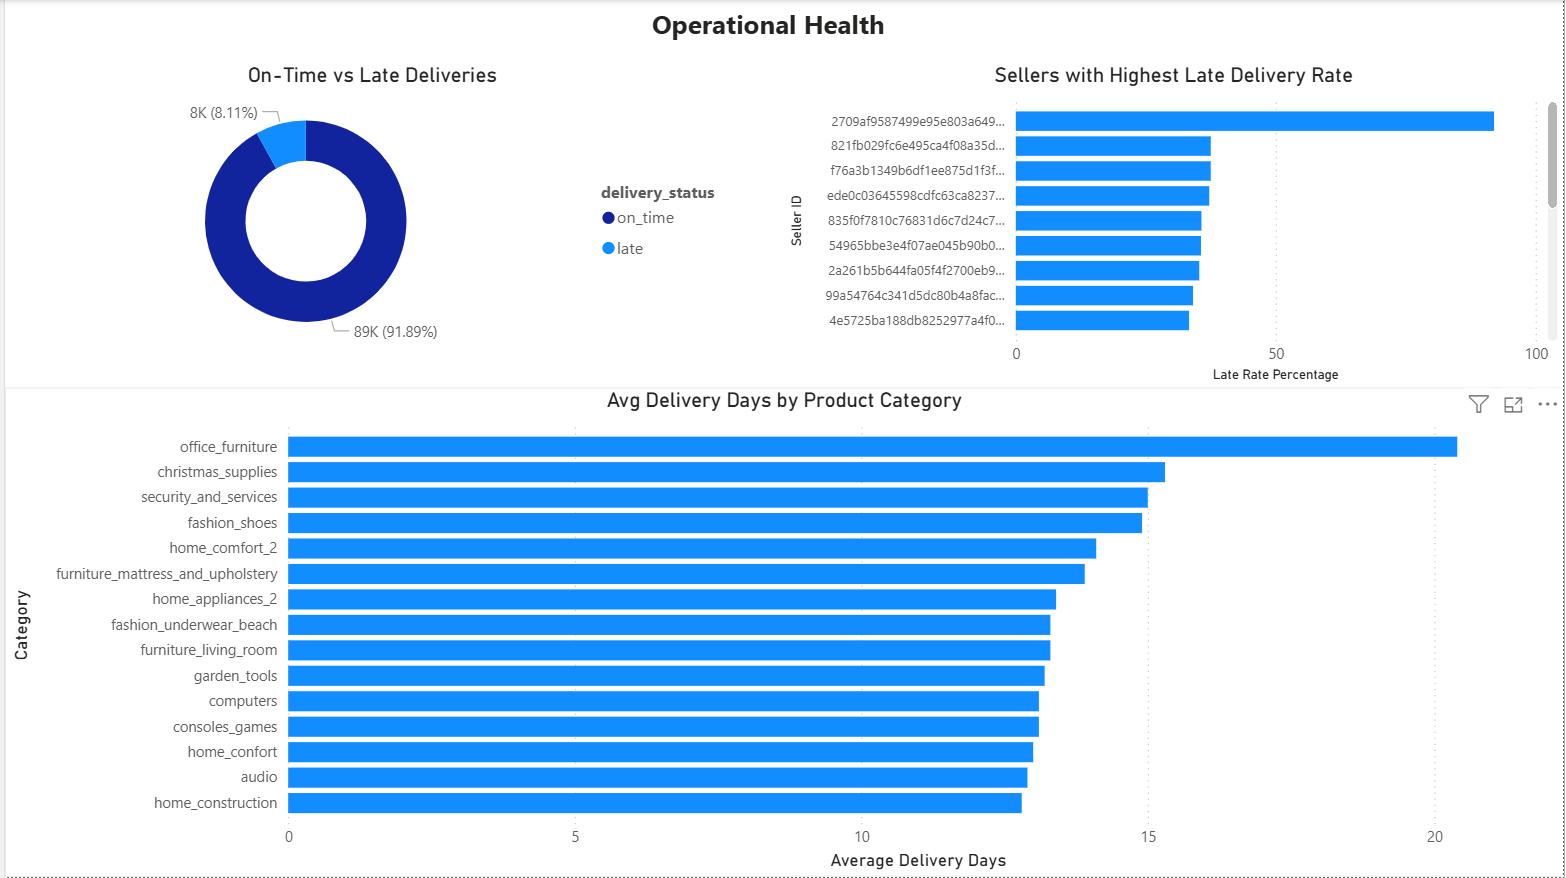

What the dashboard file says about the page in this screenshot:
{"tool":"powerbi","page":{"name":"Operational Health","canvas":[1280,720],"ordinal":1},"visuals":[{"type":"donutChart","title":"On-Time vs Late Deliveries","fields":{"Category":["delivery_rate.delivery_status"],"Y":["Sum(delivery_rate.order_count)"]},"box":[0,51.2,603.5,241.9],"z":0},{"type":"clusteredBarChart","title":"Sellers with Highest Late Delivery Rate","fields":{"Category":["seller_late_rate.seller_id"],"Y":["Sum(seller_late_rate.late_rate_pct)"]},"box":[639.5,51.2,640.7,267.4],"z":1000},{"type":"clusteredBarChart","title":"Avg Delivery Days by Product Category","fields":{"Category":["delivery_by_category.category"],"Y":["Sum(delivery_by_category.avg_delivery_days)"]},"box":[0,318.6,1280.2,401.2],"z":2000},{"type":"textbox","box":[100,0,1054.7,51.2],"z":2001}]}

Visuals, with their boxes in screenshot pixels (x1, y1, x2, y2), scaled from the page's 1280x720 canvas onto the 1566x878 screenshot:
"On-Time vs Late Deliveries" donutChart: detection(0, 62, 738, 357)
"Sellers with Highest Late Delivery Rate" clusteredBarChart: detection(782, 62, 1565, 389)
"Avg Delivery Days by Product Category" clusteredBarChart: detection(0, 389, 1565, 877)
textbox: detection(122, 0, 1413, 62)
